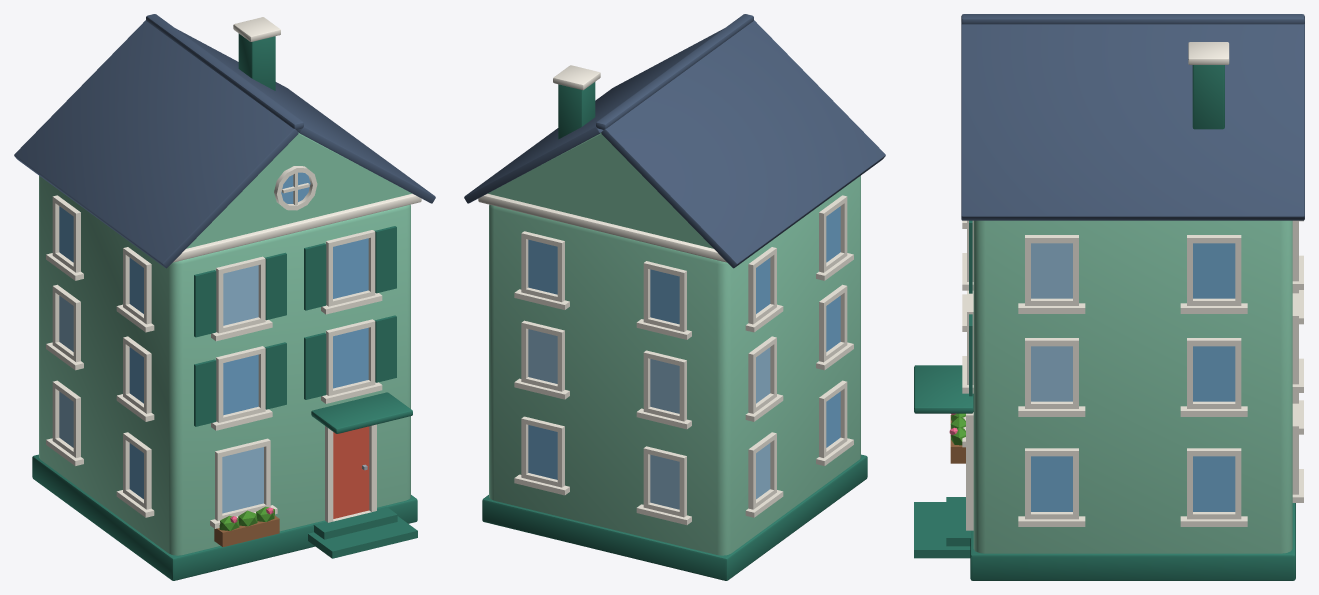
Rendered from building_townhouse.glb.
The picture shows the model from 3 angles, left to right: view 1: azimuth 30°, elevation 25°; view 2: azimuth 150°, elevation 25°; view 3: azimuth 270°, elevation 25°; orthographic projection. The views are drawn at different scales.
Parts seen in each view (by area): view 1: building; view 2: building; view 3: building.
Boxes of the visible parts, <box> form: building: <box>14,14,435,580</box>; building: <box>464,14,885,580</box>; building: <box>914,14,1304,580</box>.
Size of the model in its own units: 6.72 by 10.19 by 7.23.
